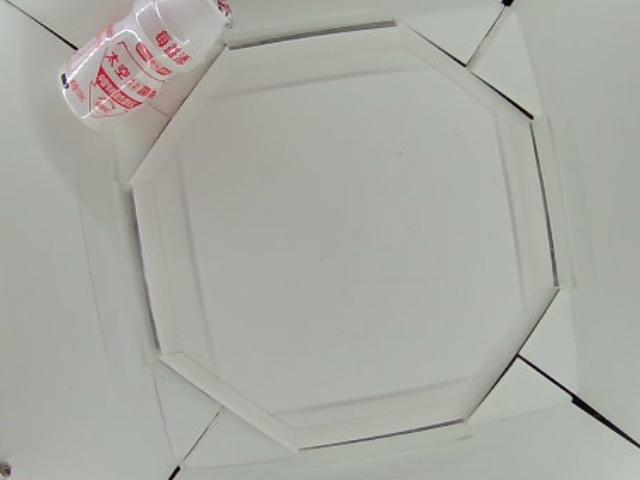Bottle: (52, 1, 234, 126)
